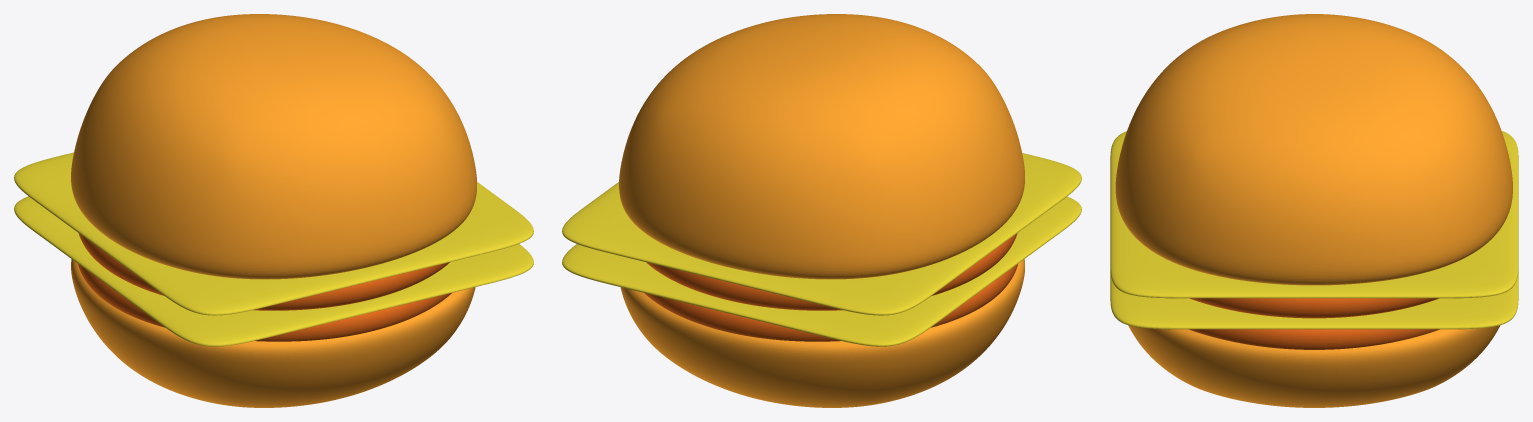
Rendered from Hamburguer.fbx.
3 views of the same model, side by side, from view 1: azimuth 30°, elevation 25°; view 2: azimuth 150°, elevation 25°; view 3: azimuth 270°, elevation 25° (orthographic).
Parts seen in each view (by area): view 1: BreadDown.001, BreadDown, Cheese.001, Cheese, Meat, Meat.001; view 2: BreadDown.001, BreadDown, Cheese.001, Cheese, Meat, Meat.001; view 3: BreadDown.001, BreadDown, Cheese.001, Cheese, Meat, Meat.001.
Part boxes in pixels (x1,y1,x2,y2): BreadDown.001: [71, 14, 476, 279]; BreadDown: [71, 259, 475, 407]; Cheese.001: [14, 152, 533, 315]; Cheese: [14, 196, 533, 346]; Meat: [78, 264, 451, 341]; Meat.001: [78, 233, 449, 310]; BreadDown.001: [619, 14, 1024, 279]; BreadDown: [620, 259, 1024, 407]; Cheese.001: [562, 153, 1081, 315]; Cheese: [562, 196, 1081, 346]; Meat: [644, 264, 1017, 341]; Meat.001: [646, 233, 1017, 310]; BreadDown.001: [1115, 14, 1512, 285]; BreadDown: [1128, 325, 1500, 407]; Cheese.001: [1110, 131, 1518, 298]; Cheese: [1110, 269, 1518, 329]; Meat: [1189, 329, 1439, 349]; Meat.001: [1189, 298, 1438, 318].
Bounding box in the file's own units: 167 × 148 × 169.
